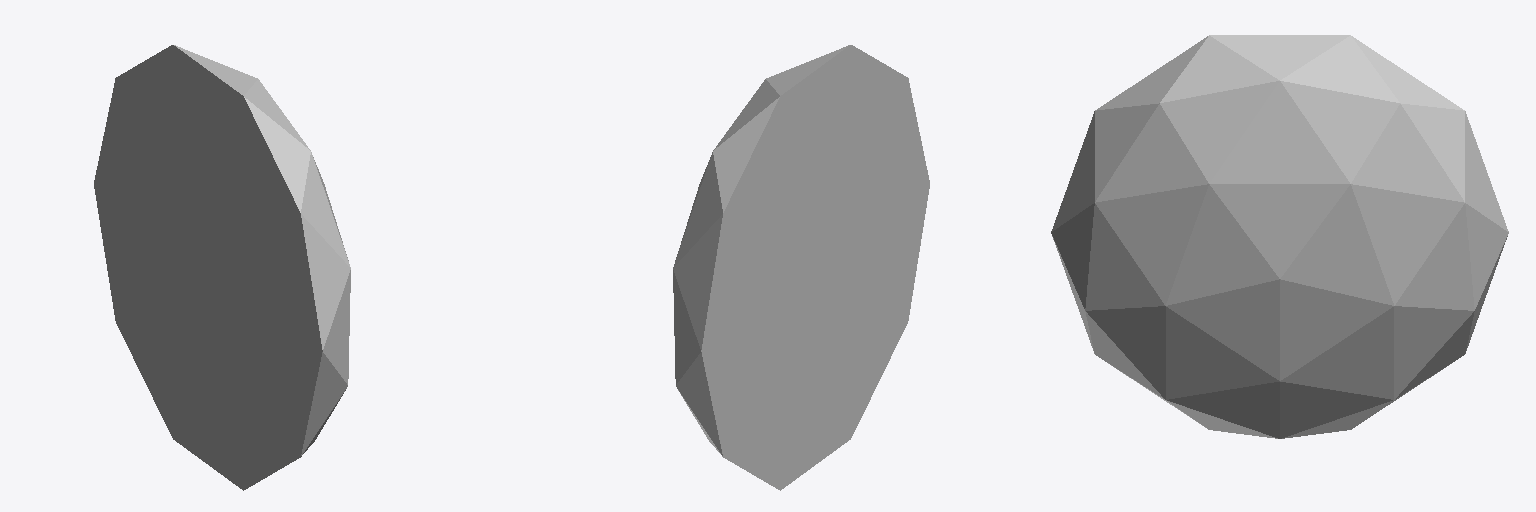
File: Cookie.obj
3 renders of one model, left to right at view 1: azimuth 30°, elevation 25°; view 2: azimuth 150°, elevation 25°; view 3: azimuth 270°, elevation 25°, orthographic.
Parts seen in each view (by area): view 1: Sphere; view 2: Sphere; view 3: Sphere.
Boxes of the visible parts, x1=… form: Sphere: x1=94, y1=45, x2=350, y2=490; Sphere: x1=673, y1=45, x2=929, y2=490; Sphere: x1=1051, y1=35, x2=1508, y2=438.
Bounding box in the file's own units: 0.9641 × 3.8 × 4.